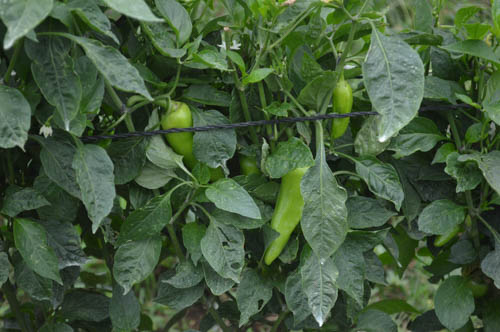ChiliPepper: (264, 161, 309, 271), (163, 106, 225, 180), (330, 83, 353, 139)
